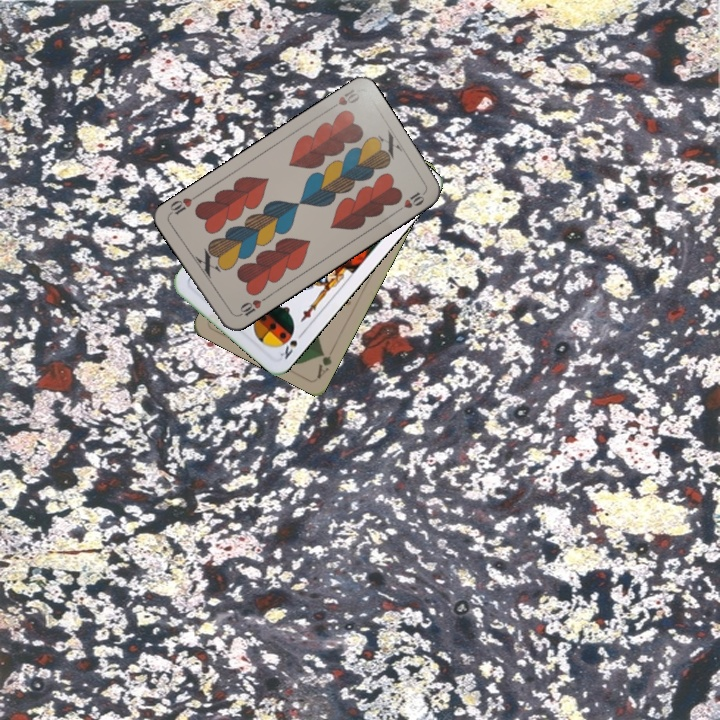GA: (313, 347, 334, 380)
H10: (324, 84, 362, 113), (233, 293, 270, 319)
SK: (276, 325, 307, 362)
